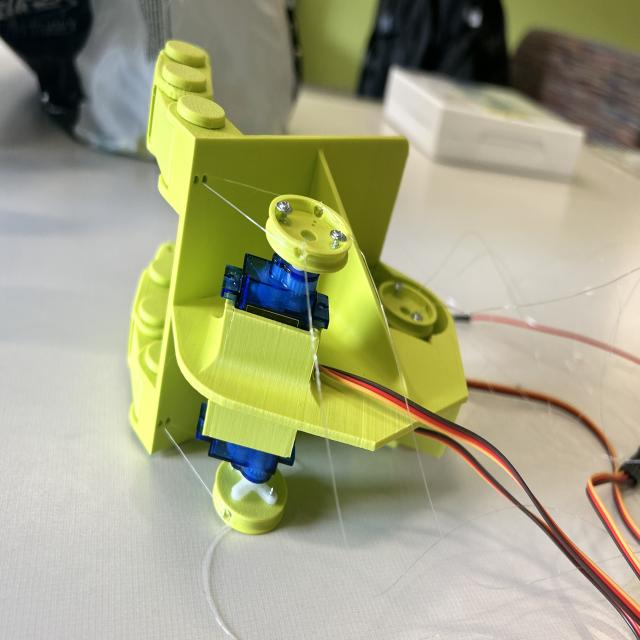prosthetic: (127, 37, 471, 538)
